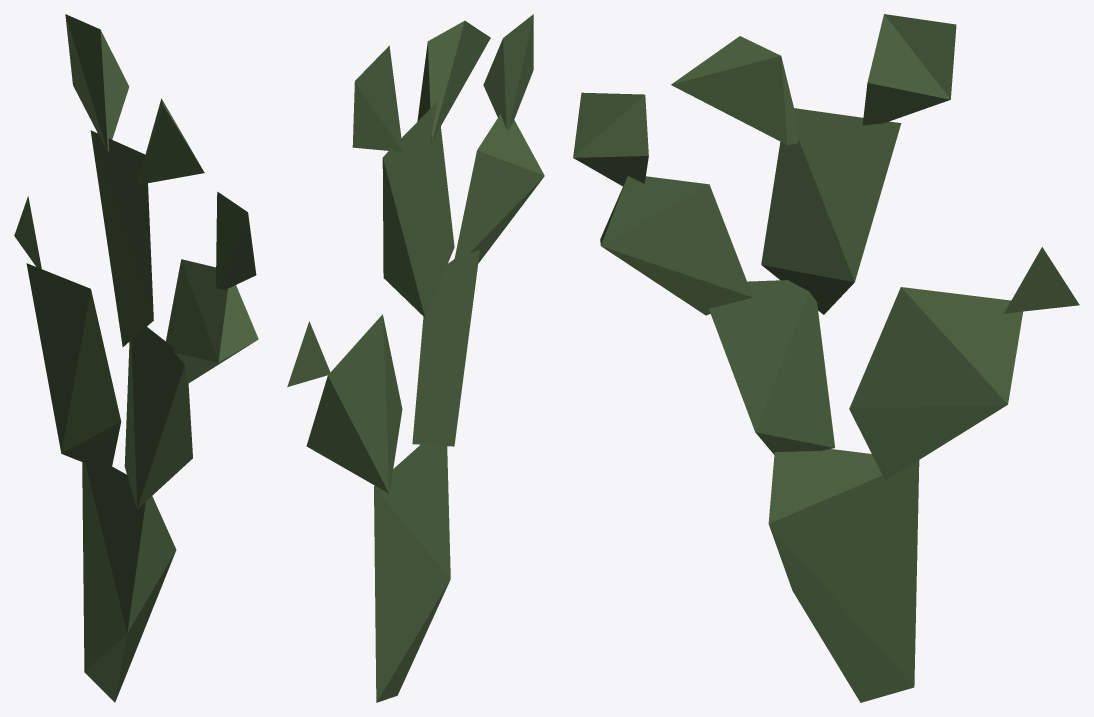
Rendered from Cactus_4.lod3.glb.
3 renders of one model, left to right at view 1: azimuth 30°, elevation 25°; view 2: azimuth 150°, elevation 25°; view 3: azimuth 270°, elevation 25°, orthographic. The views are drawn at different scales.
Visible parts, largest first — view 1: Cactus_4; view 2: Cactus_4; view 3: Cactus_4.
Part boxes in pixels (box(x1,y1,x2,y2)): Cactus_4: box(14, 14, 258, 702); Cactus_4: box(287, 14, 544, 702); Cactus_4: box(573, 14, 1079, 702).
Size of the model in its own units: 0.1068 by 1.37 by 0.9138.
